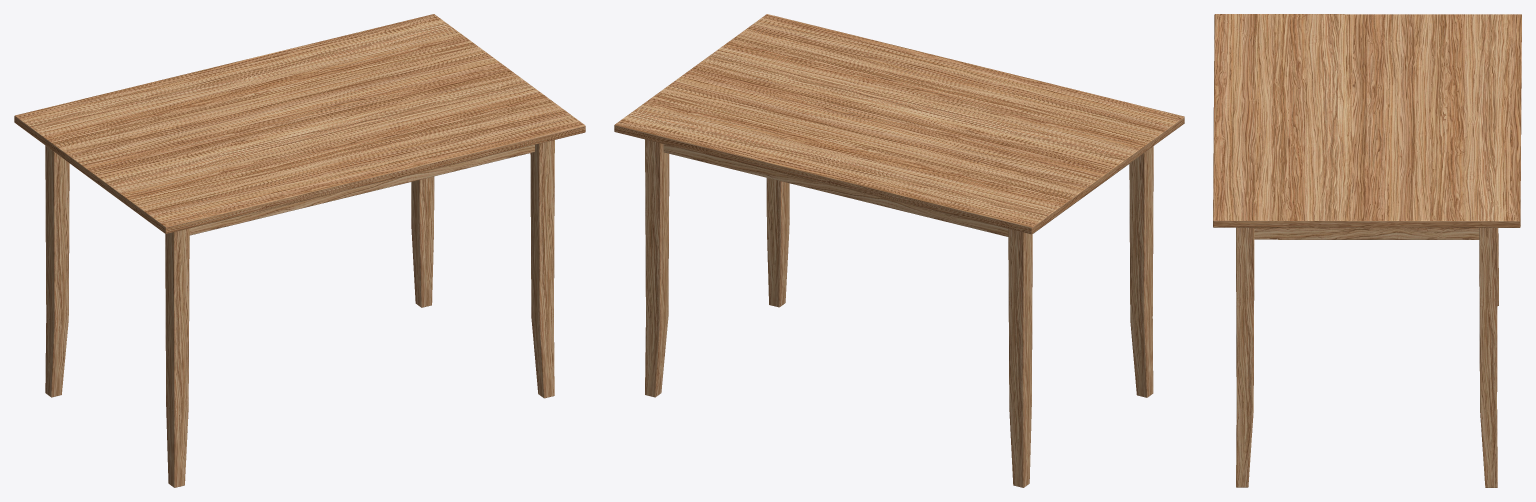
The model's file is Table IKEA LERHAMN N070421.fbx.
3 renders of one model, left to right at view 1: azimuth 30°, elevation 25°; view 2: azimuth 150°, elevation 25°; view 3: azimuth 270°, elevation 25°, orthographic.
Parts seen in each view (by area): view 1: Tabel; view 2: Tabel; view 3: Tabel.
Part boxes in pixels (bbox=[...]): Tabel: bbox=[14, 14, 585, 487]; Tabel: bbox=[614, 14, 1184, 487]; Tabel: bbox=[1213, 14, 1521, 487].
Bounding box in the file's own units: 89.01 × 55.55 × 56.15.
